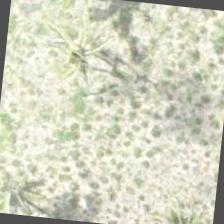Kelapa_Sawit: (28, 5, 126, 104), (0, 145, 54, 219), (133, 178, 218, 223)
